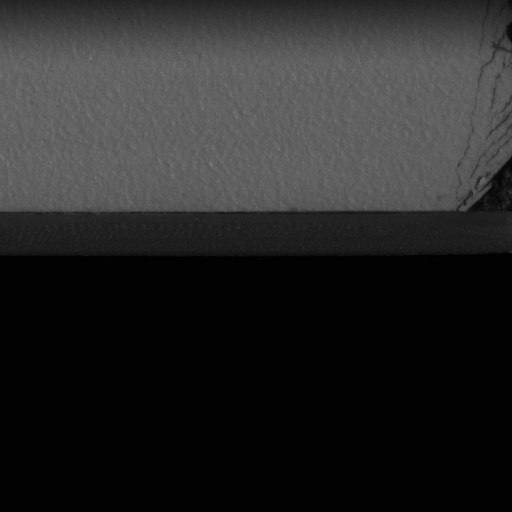bengque: (454, 160, 511, 218)
